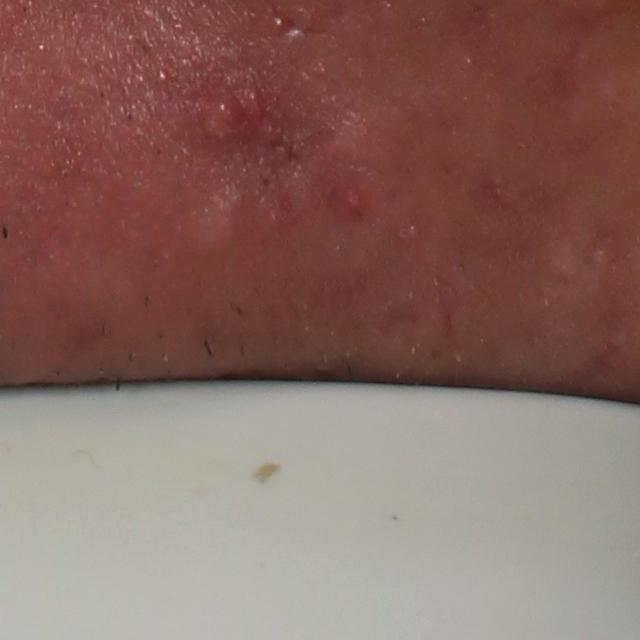hypertrophic_scar: (179, 181, 254, 253)
